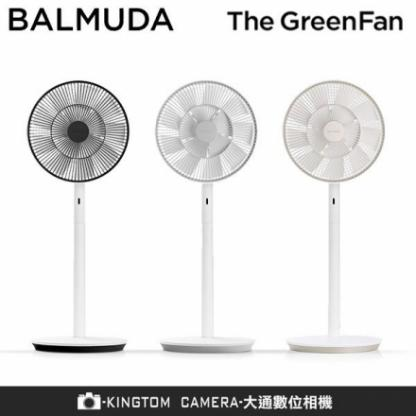fan: (151, 76, 266, 359), (28, 75, 136, 356), (281, 76, 386, 359)
